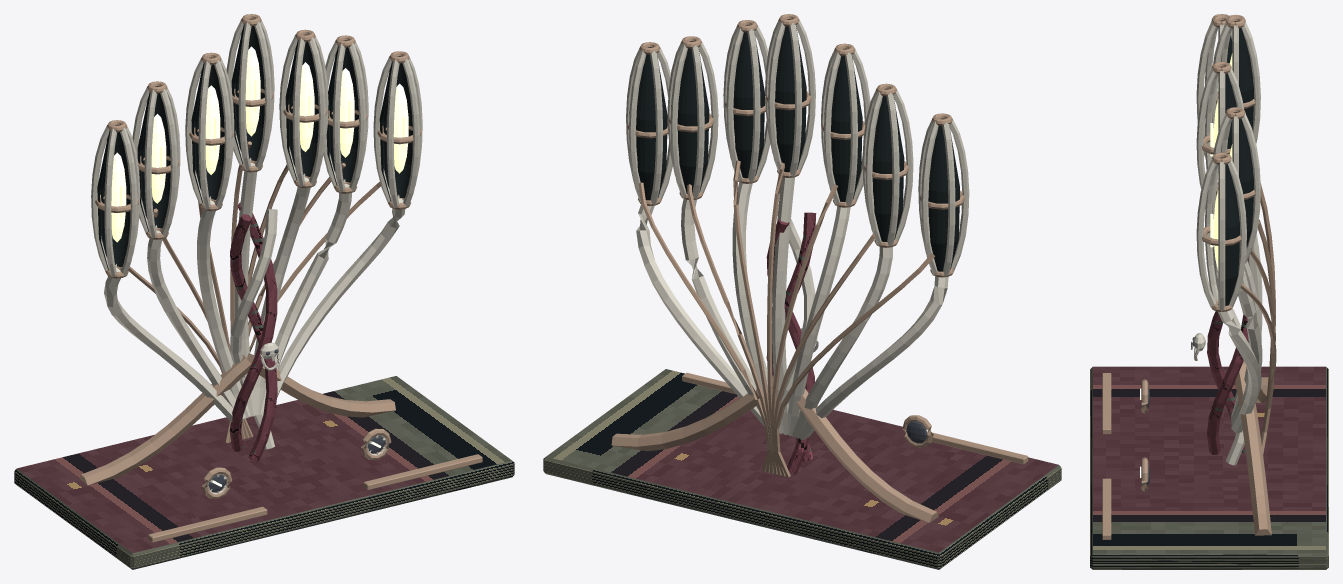
Rendered from inversion_seven_vessels.glb.
3 views of the same model, side by side, from view 1: azimuth 30°, elevation 25°; view 2: azimuth 150°, elevation 25°; view 3: azimuth 270°, elevation 25° (orthographic). The views are drawn at different scales.
Parts seen in each view (by area): view 1: inversion_seven_vessels_petrol, inversion_seven_vessels_warm, inversion_seven_vessels_worn, inversion_seven_vessels_sick, inversion_seven_vessels_bruised; view 2: inversion_seven_vessels_petrol, inversion_seven_vessels_warm, inversion_seven_vessels_worn, inversion_seven_vessels_bruised; view 3: inversion_seven_vessels_petrol, inversion_seven_vessels_warm, inversion_seven_vessels_worn, inversion_seven_vessels_bruised, inversion_seven_vessels_sick.
Boxes of the visible parts, left/top/right/bottom form: inversion_seven_vessels_petrol: left=14, top=24, right=514, bottom=569; inversion_seven_vessels_warm: left=91, top=18, right=422, bottom=494; inversion_seven_vessels_worn: left=80, top=14, right=482, bottom=542; inversion_seven_vessels_sick: left=111, top=46, right=408, bottom=486; inversion_seven_vessels_bruised: left=229, top=202, right=277, bottom=462; inversion_seven_vessels_petrol: left=543, top=26, right=1061, bottom=569; inversion_seven_vessels_warm: left=626, top=19, right=969, bottom=447; inversion_seven_vessels_worn: left=611, top=14, right=1028, bottom=522; inversion_seven_vessels_bruised: left=766, top=212, right=816, bottom=474; inversion_seven_vessels_petrol: left=1090, top=27, right=1328, bottom=569; inversion_seven_vessels_warm: left=1141, top=20, right=1262, bottom=483; inversion_seven_vessels_worn: left=1102, top=14, right=1276, bottom=539; inversion_seven_vessels_bruised: left=1207, top=256, right=1249, bottom=454; inversion_seven_vessels_sick: left=1140, top=53, right=1232, bottom=477.
Bounding box in the file's own units: 5.8 × 6.56 × 3.1.
Materials: 6 (2 with a texture image).
